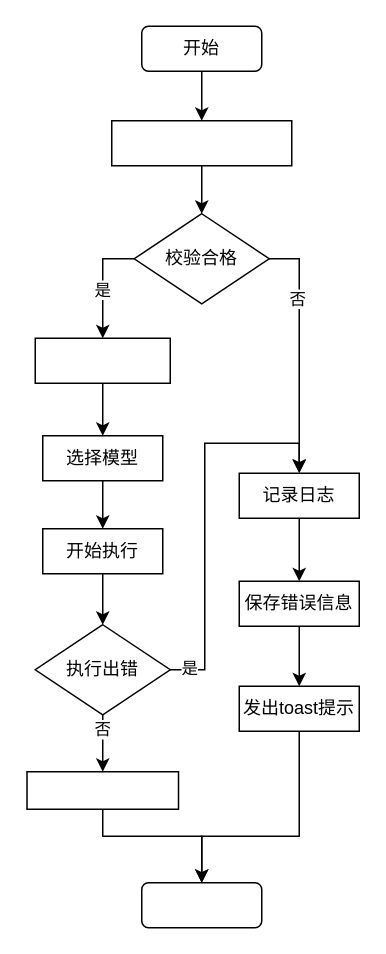
The diagram is 386 pixels wide and 954 high, and some of its shapes have lost their labels. Each missing label, with the centre of its shape:
"上传视频" goes at (201,142).
"保存结果 并展示" goes at (102,789).
"结束" goes at (201,904).
"视频预处理" goes at (102,360).
